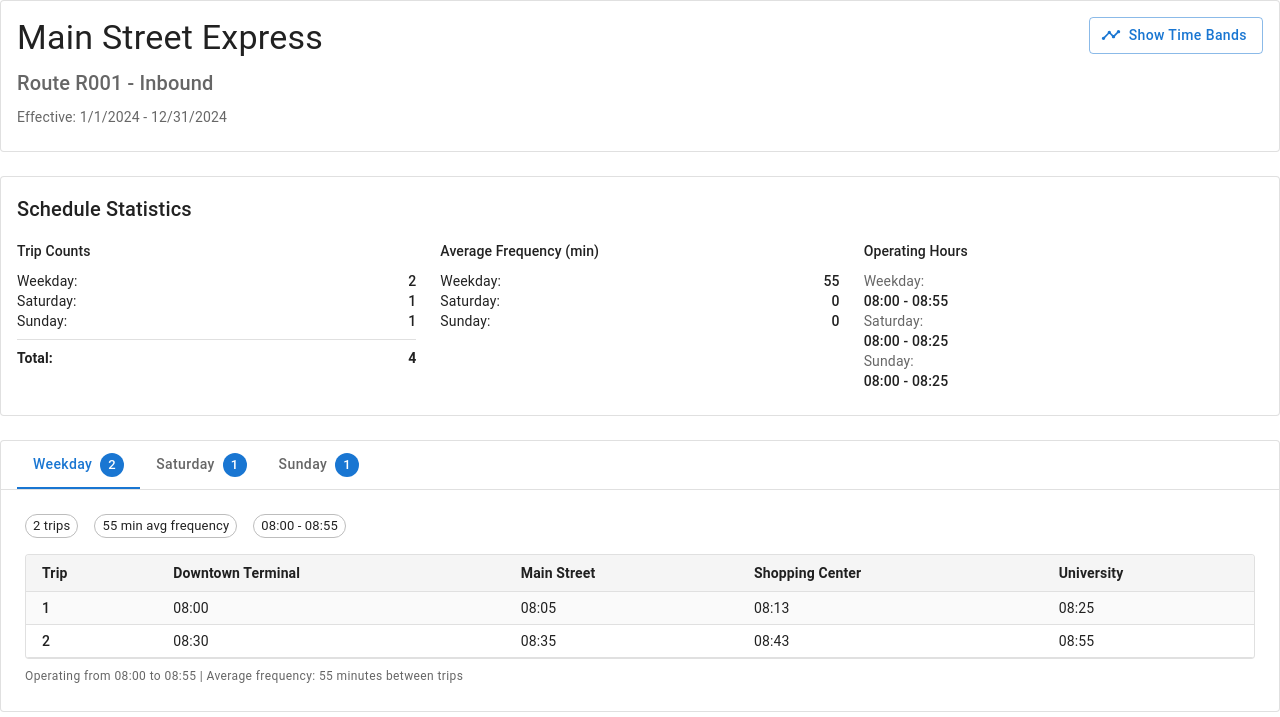
Test: SummaryDisplay Component › Time Bands Feature › toggles time bands display
Click the button "Show Time Bands" at (1176,35), box [1089,17,1263,54]
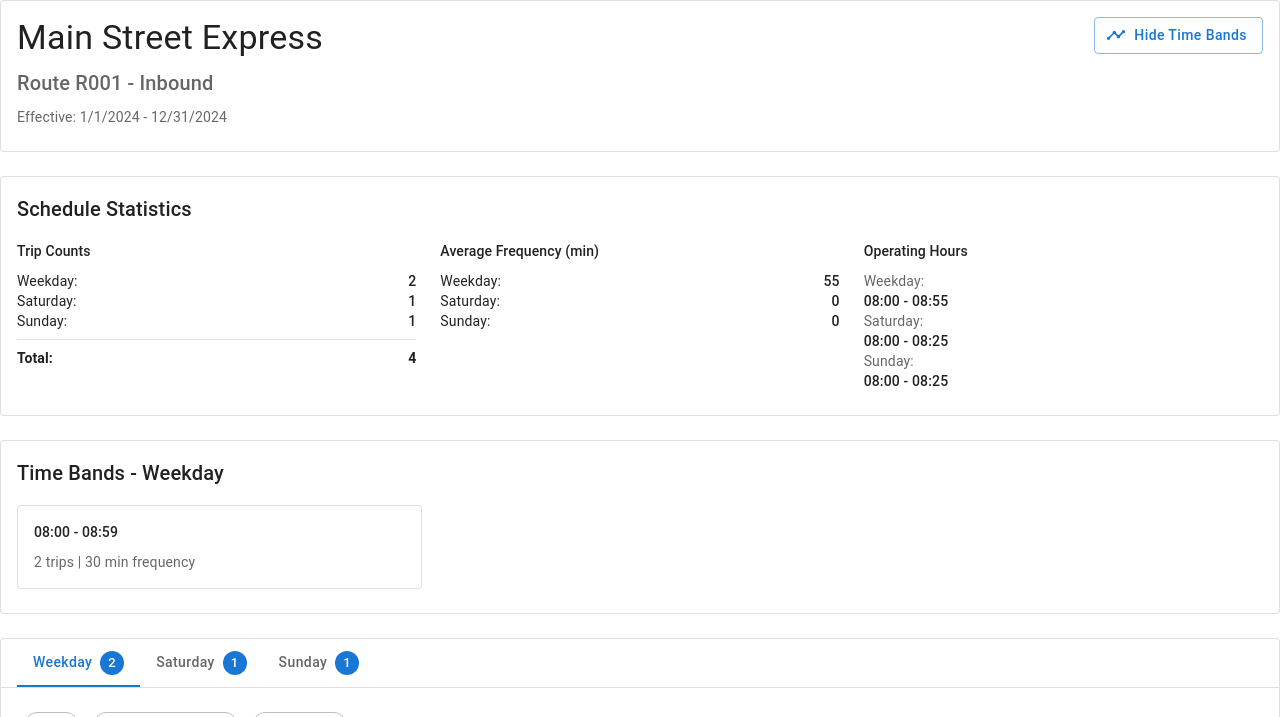
Check: the button "Hide Time Bands" is shown, box [1094,17,1263,54]
Check: the heading "Time Bands - Weekday" is shown, box [17,461,224,485]
